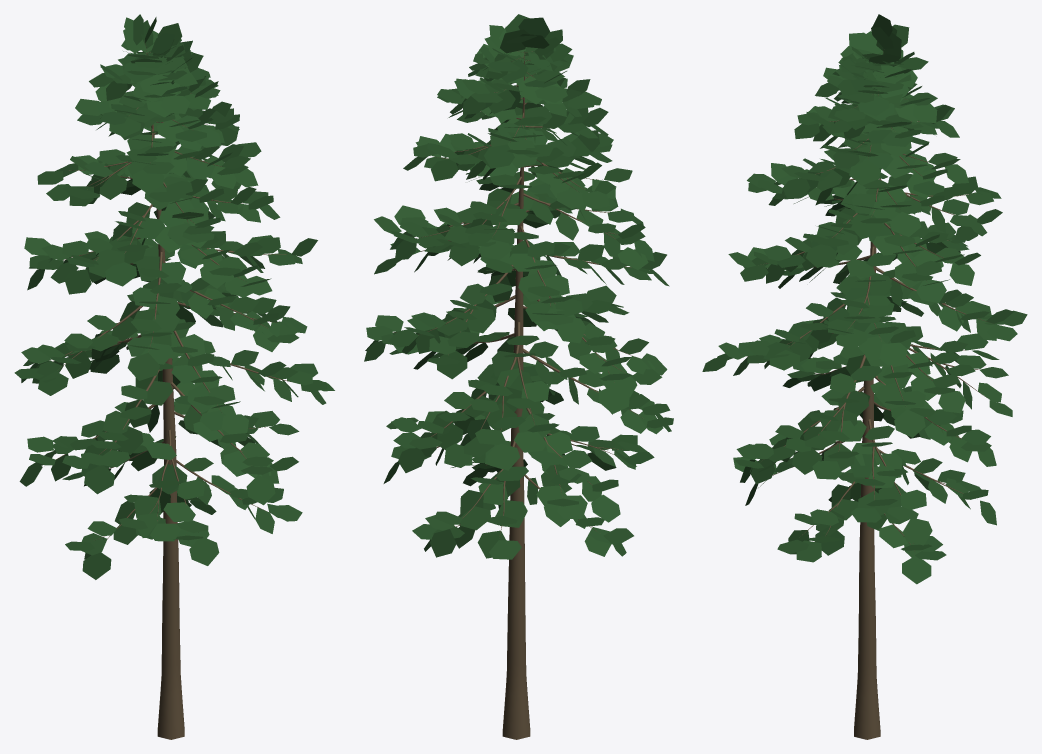
Rendered from Douglas_Fir_2.glb.
The picture shows the model from 3 angles, left to right: view 1: azimuth 30°, elevation 25°; view 2: azimuth 150°, elevation 25°; view 3: azimuth 270°, elevation 25°; orthographic projection. The views are drawn at different scales.
Parts seen in each view (by area): view 1: leaves, tree; view 2: leaves, tree; view 3: leaves, tree.
Part boxes in pixels (x1,y1,x2,y2): leaves: [14, 14, 334, 579]; tree: [49, 43, 290, 739]; leaves: [364, 14, 673, 559]; tree: [393, 51, 641, 739]; leaves: [702, 14, 1027, 584]; tree: [746, 49, 986, 739].
Bounding box in the file's own units: 10.64 × 25.28 × 10.59.
